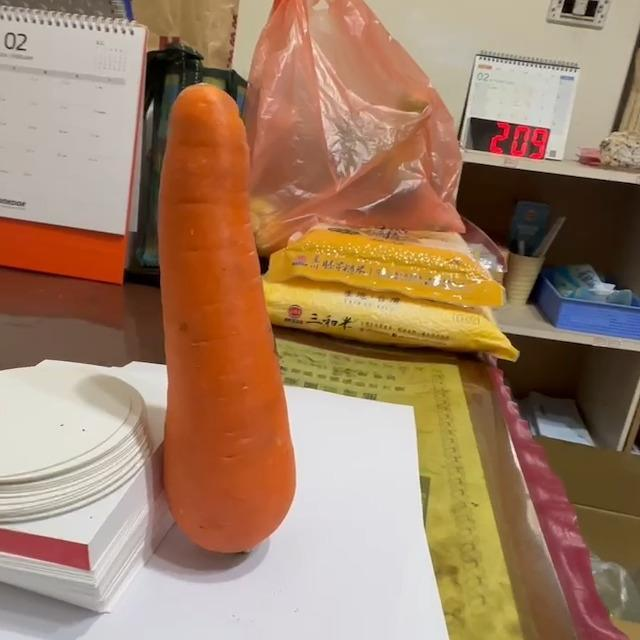carrot: (158, 81, 300, 558)
